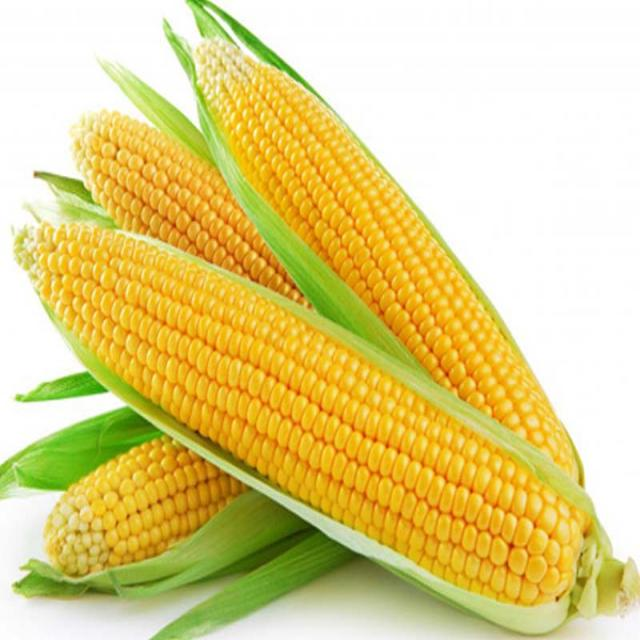corn: (281, 404, 565, 611), (366, 185, 548, 416), (188, 272, 358, 508), (206, 34, 364, 246), (40, 234, 190, 419), (46, 439, 204, 587), (67, 102, 226, 248)
